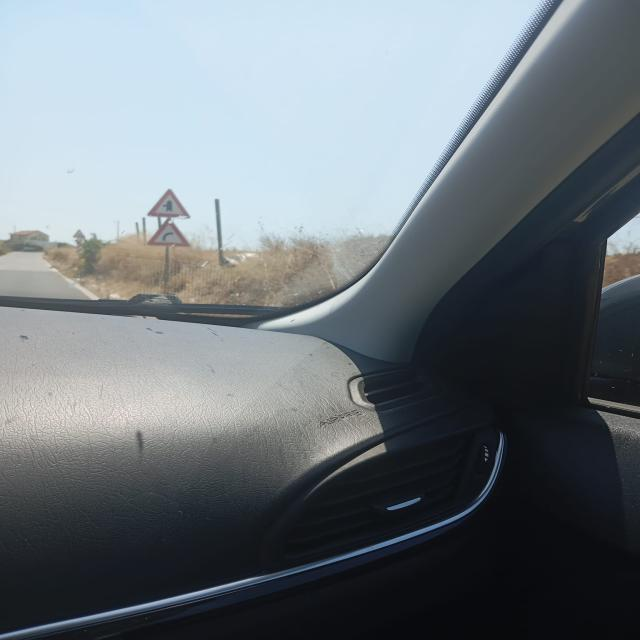warn_right_curve: (145, 218, 192, 248)
